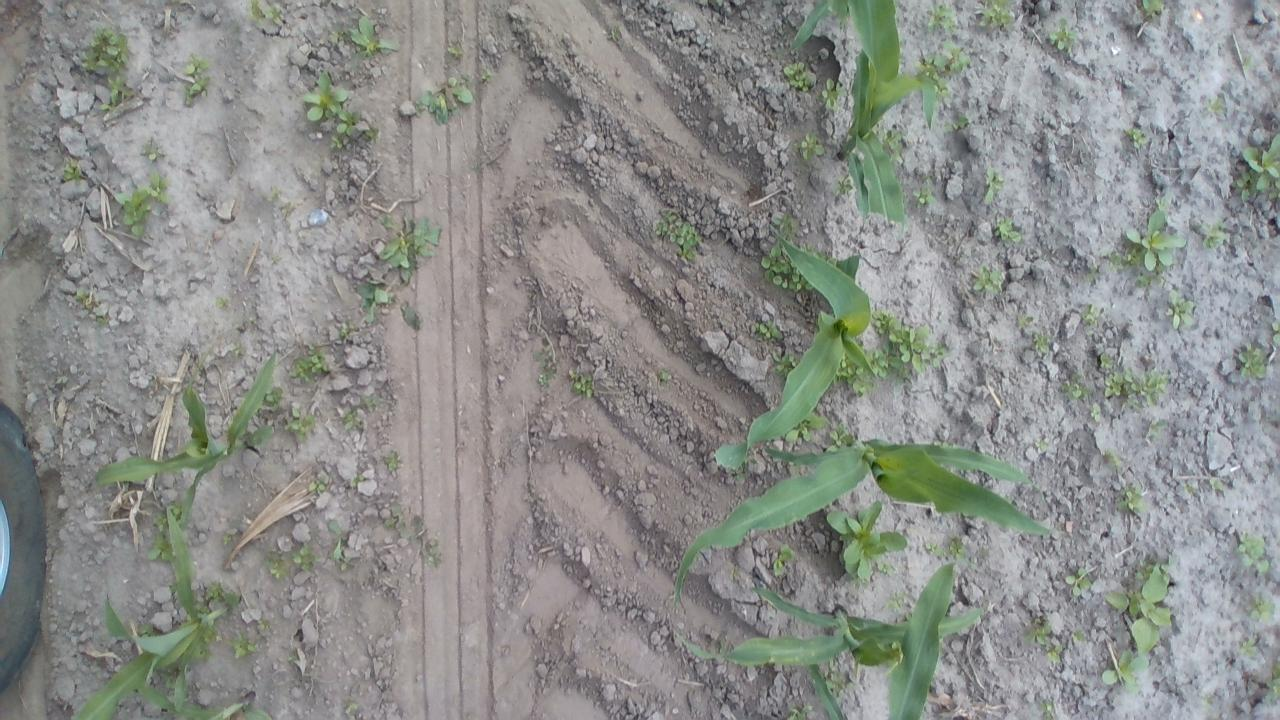Maize: (671, 435, 1051, 609), (714, 225, 875, 466), (68, 509, 230, 720), (92, 351, 276, 530), (807, 561, 980, 720), (673, 584, 984, 665), (837, 0, 936, 235), (133, 680, 274, 720), (791, 0, 849, 54)
Weeds: (826, 500, 906, 588), (1105, 555, 1172, 654), (868, 308, 929, 386), (378, 214, 440, 282), (111, 170, 171, 238), (1126, 210, 1186, 272), (1231, 131, 1280, 202), (916, 40, 970, 99), (1105, 368, 1170, 410), (760, 244, 814, 293), (302, 70, 348, 121), (348, 14, 400, 59), (654, 210, 700, 260), (79, 26, 129, 70), (1098, 650, 1149, 692), (330, 107, 376, 150), (832, 354, 874, 398), (182, 52, 212, 106), (290, 344, 330, 382), (1234, 531, 1269, 574), (357, 280, 390, 324), (872, 122, 905, 165), (784, 412, 826, 445), (821, 658, 853, 701), (414, 88, 448, 126), (100, 74, 134, 112), (1236, 340, 1268, 380), (1164, 289, 1196, 328), (972, 265, 1005, 296), (245, 0, 283, 26), (285, 408, 314, 441), (1049, 19, 1077, 53), (979, 0, 1014, 27), (927, 1, 956, 33), (206, 581, 240, 608), (1022, 615, 1052, 645), (784, 61, 814, 91), (820, 78, 846, 112), (794, 132, 825, 160), (146, 532, 174, 563), (1061, 373, 1093, 400), (1065, 568, 1093, 598), (772, 544, 796, 578), (291, 542, 319, 571), (826, 421, 856, 448), (328, 518, 347, 560), (384, 502, 406, 538), (229, 632, 257, 660), (1244, 596, 1276, 620), (771, 351, 800, 377), (772, 211, 798, 240), (1202, 218, 1227, 248), (982, 168, 1004, 202), (1116, 484, 1144, 510), (994, 216, 1021, 242), (262, 552, 290, 577), (570, 369, 594, 398), (534, 350, 554, 384), (752, 319, 784, 340), (731, 456, 757, 481), (448, 77, 473, 103), (138, 140, 166, 162), (944, 534, 966, 560), (260, 386, 284, 409), (62, 160, 85, 184), (1265, 662, 1280, 698), (341, 407, 363, 431), (1124, 127, 1148, 148), (913, 188, 935, 210), (158, 666, 178, 690), (1030, 333, 1051, 355), (1104, 250, 1125, 272), (1082, 304, 1102, 327), (943, 114, 968, 132), (884, 592, 906, 612), (202, 624, 225, 643), (1140, 0, 1164, 18), (834, 174, 854, 195), (402, 306, 421, 328), (424, 544, 441, 568), (930, 342, 947, 366), (1135, 273, 1164, 287), (786, 705, 812, 720), (166, 502, 182, 526), (1045, 644, 1064, 664), (923, 540, 945, 556), (816, 250, 838, 266), (309, 475, 327, 494), (1146, 419, 1164, 437), (1102, 450, 1122, 466), (152, 512, 168, 532), (362, 395, 381, 411), (139, 624, 160, 638), (1240, 637, 1255, 656), (1016, 311, 1034, 326), (384, 451, 398, 470), (1206, 98, 1223, 113), (1090, 402, 1102, 423), (933, 439, 957, 449), (1154, 194, 1168, 211), (340, 323, 354, 338), (1270, 322, 1280, 343), (331, 28, 345, 43), (266, 185, 280, 200), (1035, 438, 1050, 452), (199, 644, 212, 660), (193, 602, 210, 614), (1099, 354, 1113, 368), (1240, 56, 1254, 70), (1208, 478, 1224, 490), (213, 296, 229, 308), (658, 369, 669, 386), (766, 48, 784, 58), (1072, 629, 1086, 641), (1085, 267, 1096, 282), (346, 700, 357, 714), (74, 289, 88, 300), (1040, 702, 1056, 711), (258, 618, 270, 630), (774, 24, 786, 36), (448, 105, 461, 116), (349, 476, 363, 486), (448, 46, 462, 56), (998, 493, 1012, 503), (168, 580, 178, 594), (280, 202, 292, 213), (95, 316, 108, 326), (222, 532, 232, 544), (610, 27, 620, 39), (730, 566, 740, 578), (481, 70, 491, 81), (233, 344, 242, 356), (287, 653, 297, 663), (792, 462, 802, 472), (339, 561, 348, 571), (270, 256, 279, 264), (249, 316, 256, 323)
